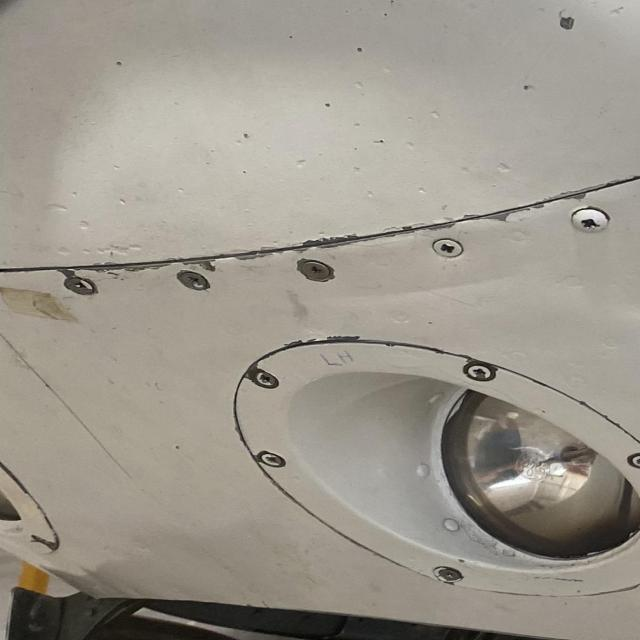Dent: (60, 241, 143, 261), (167, 181, 192, 203), (42, 201, 71, 215), (63, 183, 83, 203), (423, 104, 445, 121), (351, 76, 370, 94), (75, 216, 95, 232), (454, 162, 473, 178), (406, 183, 427, 197), (403, 110, 421, 126), (291, 154, 310, 169), (357, 187, 377, 201), (343, 117, 363, 131), (491, 162, 512, 175), (106, 160, 124, 175), (375, 59, 393, 74), (347, 162, 362, 175), (115, 193, 129, 206), (402, 140, 415, 149)
Paint-off: (557, 12, 576, 30), (320, 97, 334, 112), (353, 46, 365, 55), (240, 132, 250, 141)
